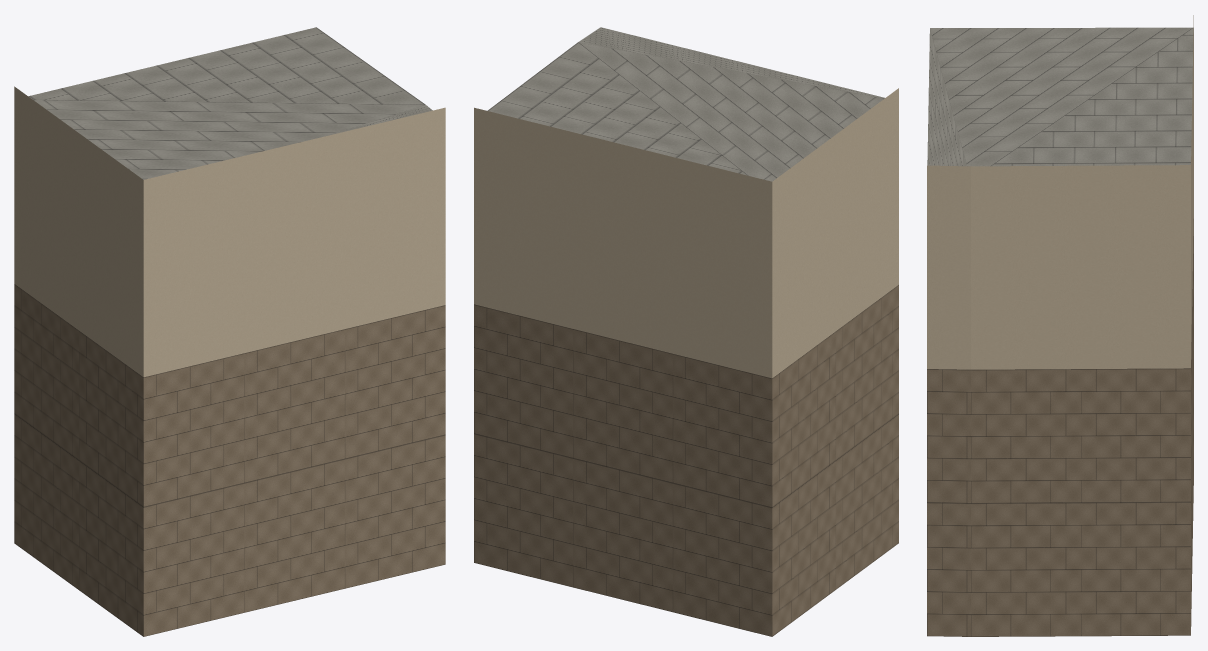
File: bld_c-35_30_754.gltf
The picture shows the model from 3 angles, left to right: view 1: azimuth 30°, elevation 25°; view 2: azimuth 150°, elevation 25°; view 3: azimuth 270°, elevation 25°; orthographic projection. The views are drawn at different scales.
Visible parts, largest first — view 1: bld_c-35_30_754; view 2: bld_c-35_30_754; view 3: bld_c-35_30_754.
Boxes of the visible parts, x1,y1,x2,y2 form: bld_c-35_30_754: [14, 27, 445, 636]; bld_c-35_30_754: [474, 27, 898, 636]; bld_c-35_30_754: [927, 15, 1193, 636].
Size of the model in its own units: 5.75 by 8.28 by 4.25.
Materials: 4 (4 with a texture image).
